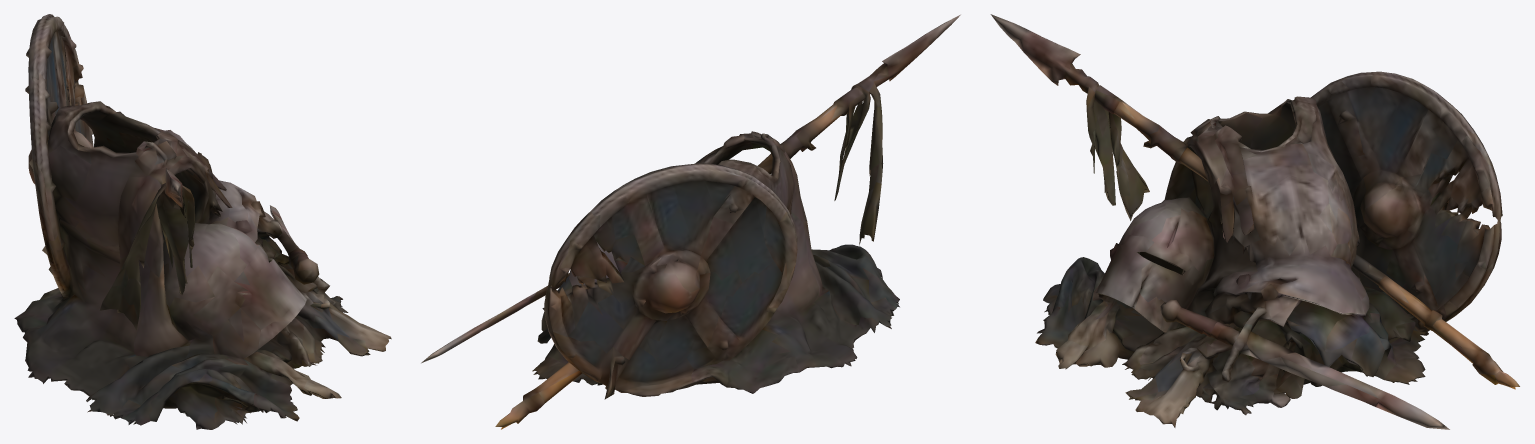
File: weapon-armor-heap.glb
3 views of the same model, side by side, from view 1: azimuth 30°, elevation 25°; view 2: azimuth 150°, elevation 25°; view 3: azimuth 270°, elevation 25° (orthographic). The views are drawn at different scales.
Visible parts, largest first — view 1: tripo_node_63c746d6-f57c-494c-aa6d-2e33672d6273; view 2: tripo_node_63c746d6-f57c-494c-aa6d-2e33672d6273; view 3: tripo_node_63c746d6-f57c-494c-aa6d-2e33672d6273.
Part boxes in pixels (<box>): tripo_node_63c746d6-f57c-494c-aa6d-2e33672d6273: <box>14,14,391,429</box>; tripo_node_63c746d6-f57c-494c-aa6d-2e33672d6273: <box>421,14,960,429</box>; tripo_node_63c746d6-f57c-494c-aa6d-2e33672d6273: <box>990,14,1519,429</box>.
Bounding box in the file's own units: 0.7172 × 0.5761 × 1.
Materials: 1 (1 with a texture image).
